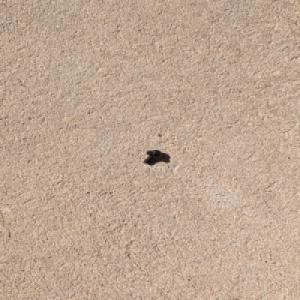BoltWasher: (142, 149, 163, 163)
